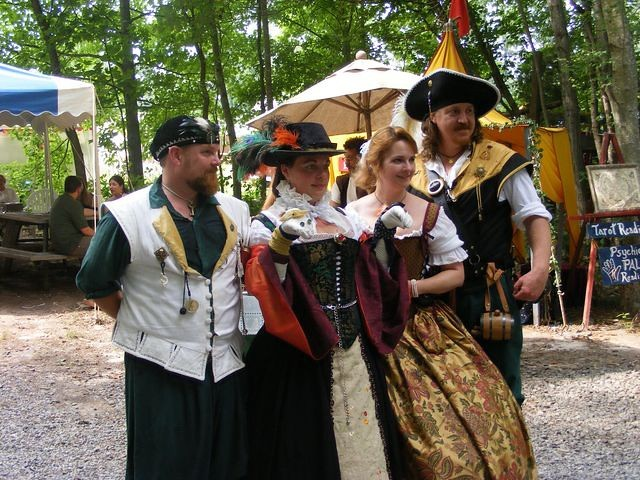bad: (385, 146, 421, 182)
